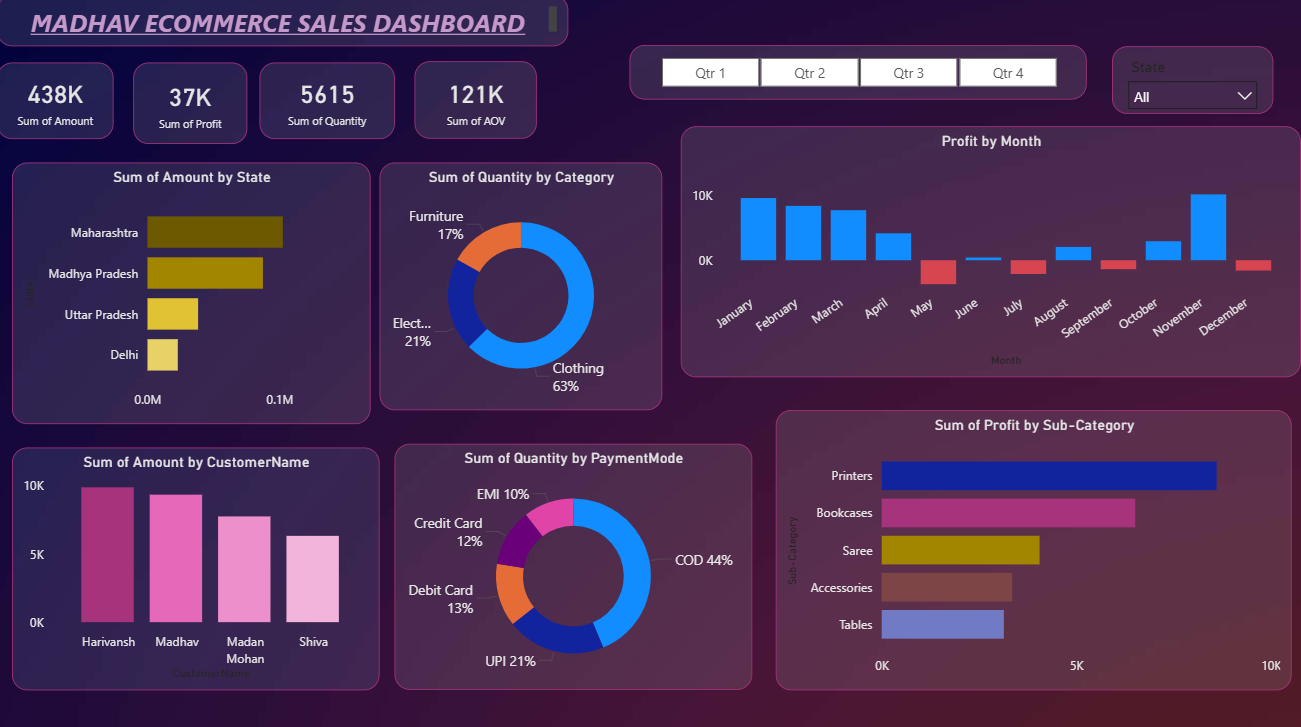

Layout of this report page (visuals, bound fields, positions):
{"tool":"powerbi","page":{"name":"Page 1","canvas":[1280,720],"ordinal":0},"visuals":[{"type":"textbox","box":[0,0,560.7,50.3],"z":0},{"type":"columnChart","title":"Profit by Month","fields":{"Y":["Sum(Details.Profit)"],"Category":["Orders.Order Date.Variation.Date Hierarchy.Month"]},"box":[671.2,128.8,608.6,246.6],"z":1000},{"type":"barChart","fields":{"Category":["Details.Sub-Category"],"Y":["Sum(Details.Profit)"]},"box":[764.4,407.4,506.8,274.8],"z":2000},{"type":"donutChart","fields":{"Category":["Details.Category"],"Y":["Sum(Details.Quantity)"]},"box":[375.5,164.4,277.3,242.9],"z":3000},{"type":"donutChart","fields":{"Y":["Sum(Details.Quantity)"],"Category":["Details.PaymentMode"]},"box":[390.2,440.5,350.9,241.7],"z":4000},{"type":"card","fields":{"Values":["Sum(Details.Amount)"]},"box":[0,66.3,114.1,74.8],"z":5000},{"type":"card","fields":{"Values":["Sum(Details.Quantity)"]},"box":[257.7,66.3,132.5,74.8],"z":6000},{"type":"card","fields":{"Values":["Sum(Details.Profit)"]},"box":[133.7,66.3,111.7,79.8],"z":7000},{"type":"card","fields":{"Values":["Sum(Details.AOV)"]},"box":[409.8,65,120.2,76.1],"z":8000},{"type":"barChart","fields":{"Category":["Orders.State"],"Y":["Sum(Details.Amount)"]},"box":[14.7,164.4,352.1,256.4],"z":9000},{"type":"columnChart","fields":{"Category":["Orders.CustomerName"],"Y":["Sum(Details.Amount)"]},"box":[14.7,444.2,360.7,238],"z":10000},{"type":"slicer","fields":{"Values":["Orders.Order Date.Variation.Date Hierarchy.Quarter"]},"box":[620.9,49.1,449.1,54],"z":11000},{"type":"slicer","fields":{"Values":["Orders.State"]},"box":[1094.5,50.3,158.3,66.3],"z":12000}]}

Visuals, with their boxes in screenshot pixels (x1, y1, x2, y2), scaled from the page's 1280x720 canvas onto the 1301x727 screenshot:
textbox: <region>0, 0, 570, 51</region>
"Profit by Month" columnChart: <region>682, 130, 1300, 379</region>
barChart - Details.Sub-Category x Sum(Details.Profit): <region>777, 411, 1292, 689</region>
donutChart - Details.Category x Sum(Details.Quantity): <region>382, 166, 664, 411</region>
donutChart - Sum(Details.Quantity) x Details.PaymentMode: <region>397, 445, 753, 689</region>
card - Sum(Details.Amount): <region>0, 67, 116, 142</region>
card - Sum(Details.Quantity): <region>262, 67, 397, 142</region>
card - Sum(Details.Profit): <region>136, 67, 249, 148</region>
card - Sum(Details.AOV): <region>417, 66, 539, 142</region>
barChart - Orders.State x Sum(Details.Amount): <region>15, 166, 373, 425</region>
columnChart - Orders.CustomerName x Sum(Details.Amount): <region>15, 449, 382, 689</region>
slicer - Orders.Order Date.Variation.Date Hierarchy.Quarter: <region>631, 50, 1088, 104</region>
slicer - Orders.State: <region>1112, 51, 1273, 118</region>
